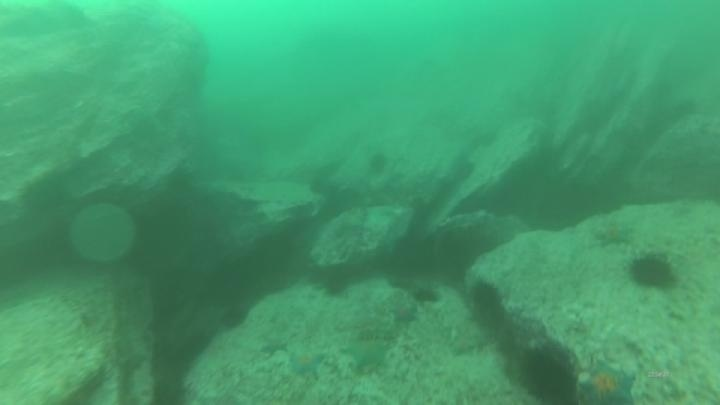echinus: (515, 340, 581, 404), (626, 251, 679, 293), (468, 279, 504, 319), (319, 269, 353, 300), (217, 302, 250, 333), (447, 154, 478, 186), (410, 284, 443, 307), (365, 150, 391, 177)
starfish: (577, 359, 638, 405), (340, 335, 392, 374), (285, 346, 327, 379), (592, 220, 636, 249), (388, 300, 421, 327), (258, 336, 290, 358)
